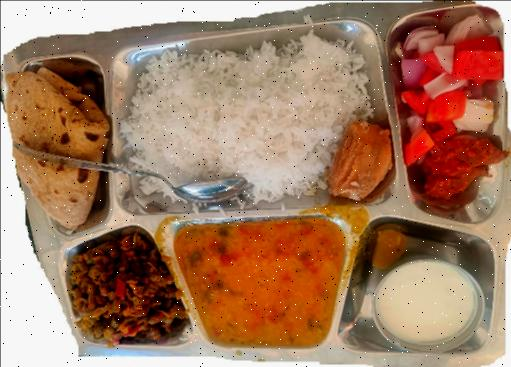Curd: (362, 256, 494, 354)
Dal: (178, 223, 346, 348)
Pickle: (424, 128, 502, 199)
Rice: (130, 34, 370, 208)
Roti: (4, 61, 110, 229)
Salad: (401, 9, 505, 126)
Sweet: (324, 122, 396, 196)
Vegetable: (69, 232, 177, 342)
